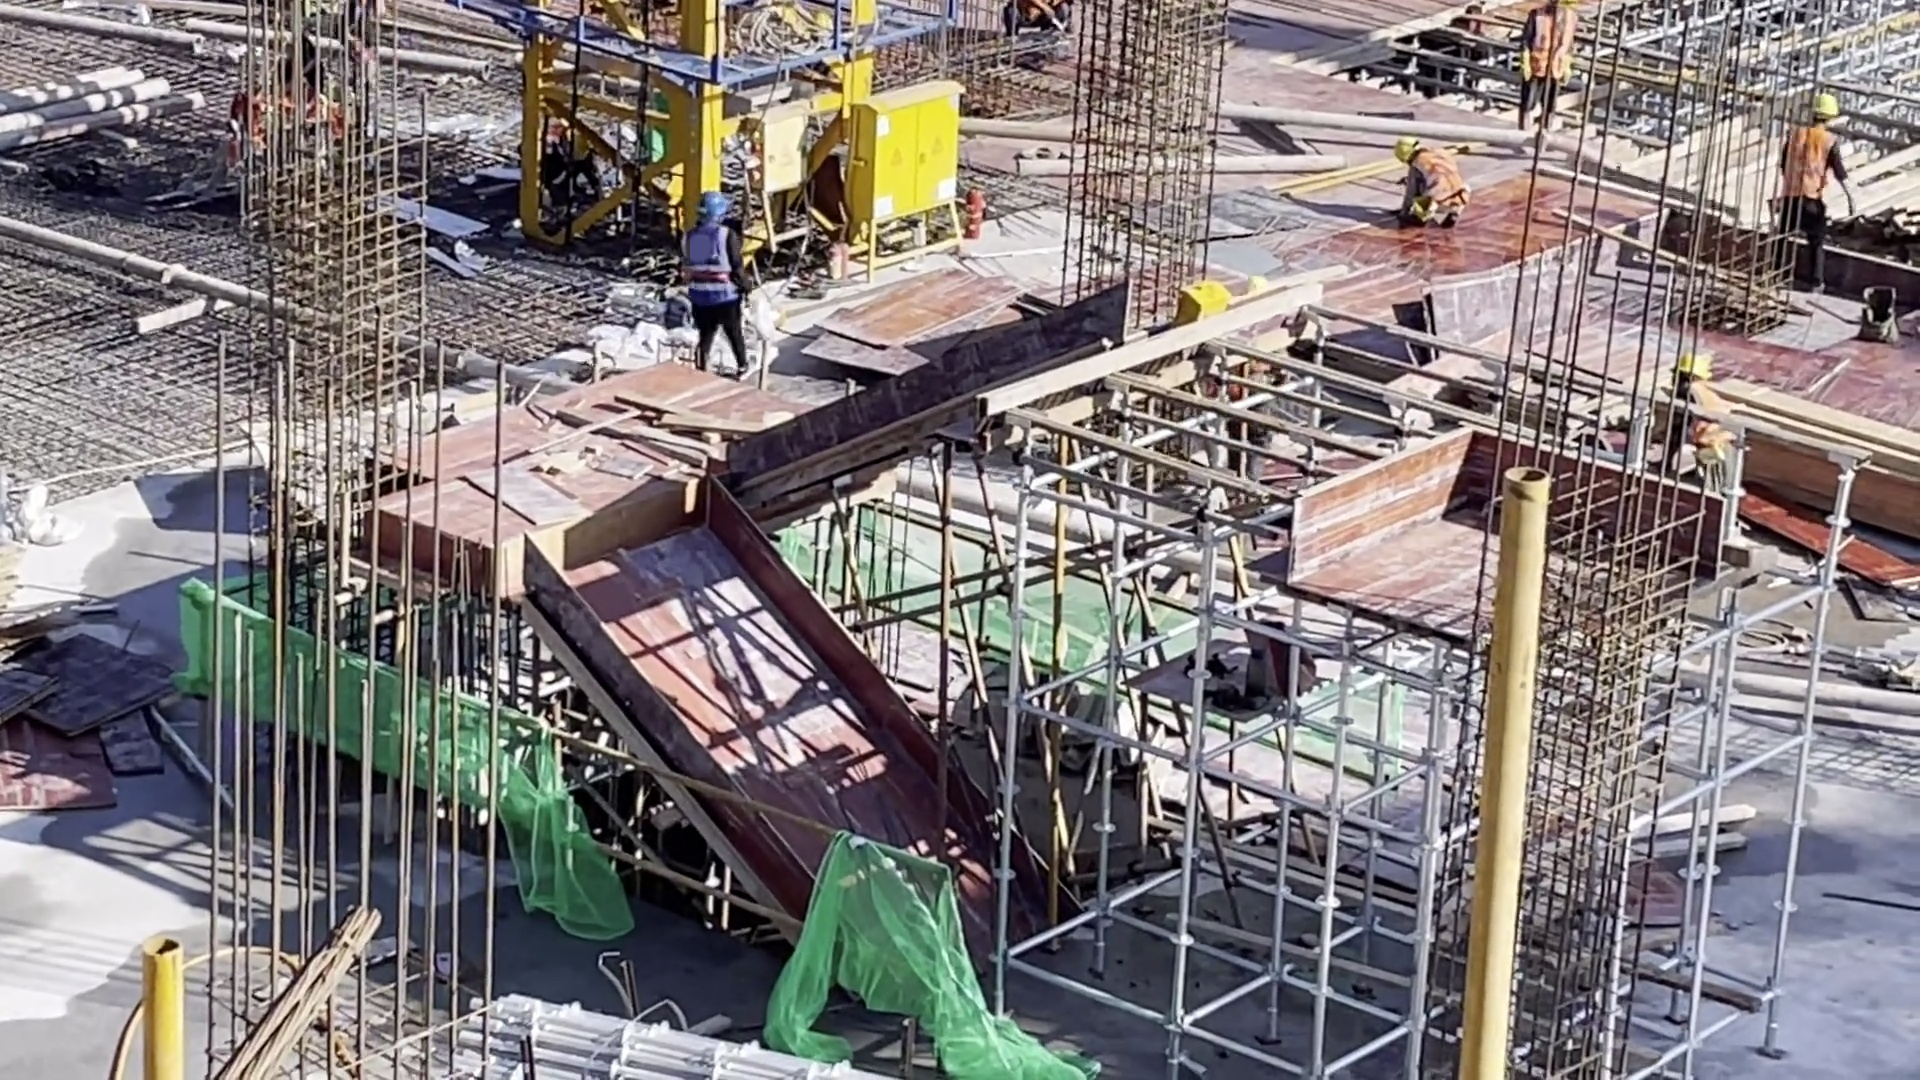board: (1, 613, 181, 825)
ebox: (846, 78, 978, 275), (748, 109, 825, 271), (1174, 284, 1238, 332)
helmet: (1802, 85, 1845, 119), (686, 188, 734, 217), (1678, 353, 1713, 379), (1393, 137, 1420, 160)
person: (1777, 93, 1847, 305), (669, 187, 746, 367), (1666, 350, 1757, 502), (1519, 1, 1589, 148), (1395, 137, 1471, 236), (406, 1, 456, 108), (998, 1, 1079, 40)
scaffold: (448, 998, 906, 1080)
vest: (682, 229, 746, 319), (1527, 1, 1585, 82), (1787, 124, 1838, 198), (1690, 382, 1732, 471), (1415, 150, 1465, 203)
wood: (1749, 397, 1920, 526)
